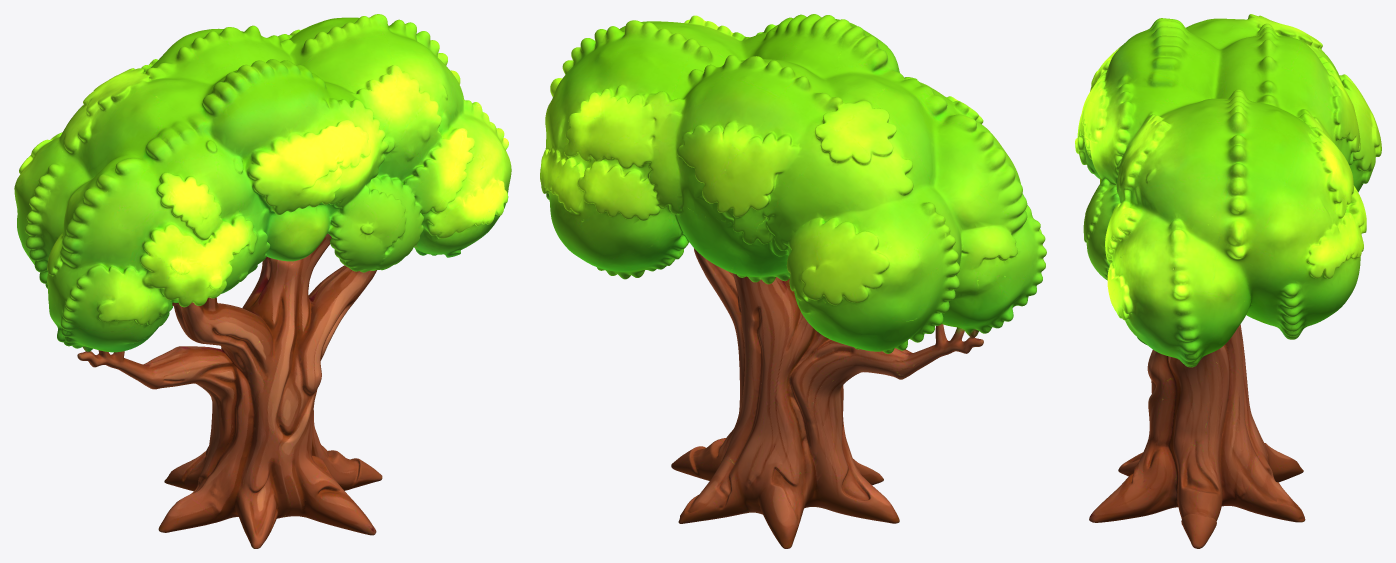
File: tree2_opt.glb
3 renders of one model, left to right at view 1: azimuth 30°, elevation 25°; view 2: azimuth 150°, elevation 25°; view 3: azimuth 270°, elevation 25°, orthographic. The views are drawn at different scales.
Bounding box in the file's own units: 1.9 × 1.83 × 1.1.
Materials: 1 (1 with a texture image).
